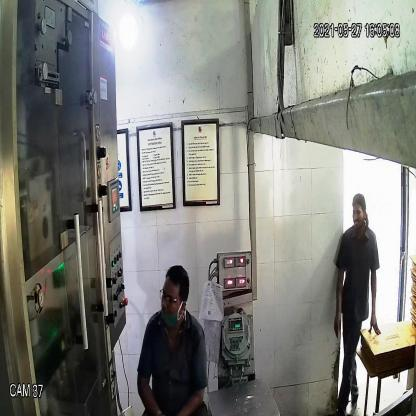goggles: (156, 285, 184, 307)
no_goggles: (349, 206, 368, 219)
